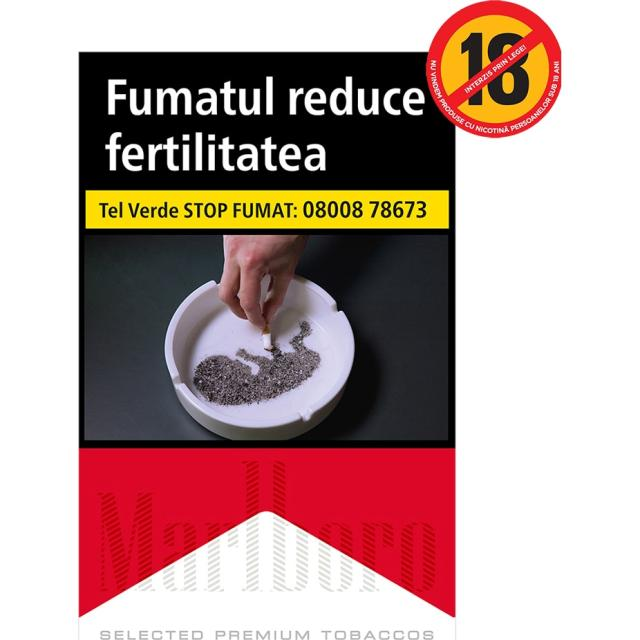marlboro: (74, 47, 458, 639)
